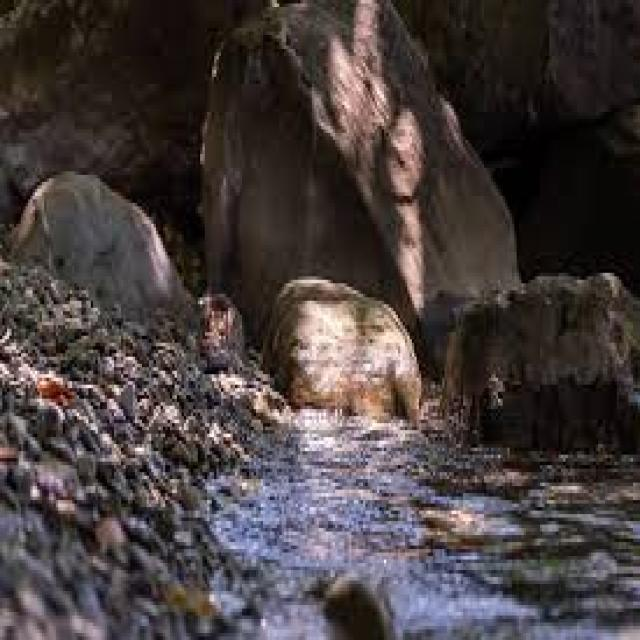rat: (198, 0, 521, 367), (438, 269, 638, 451), (4, 164, 196, 340), (258, 273, 424, 423)
